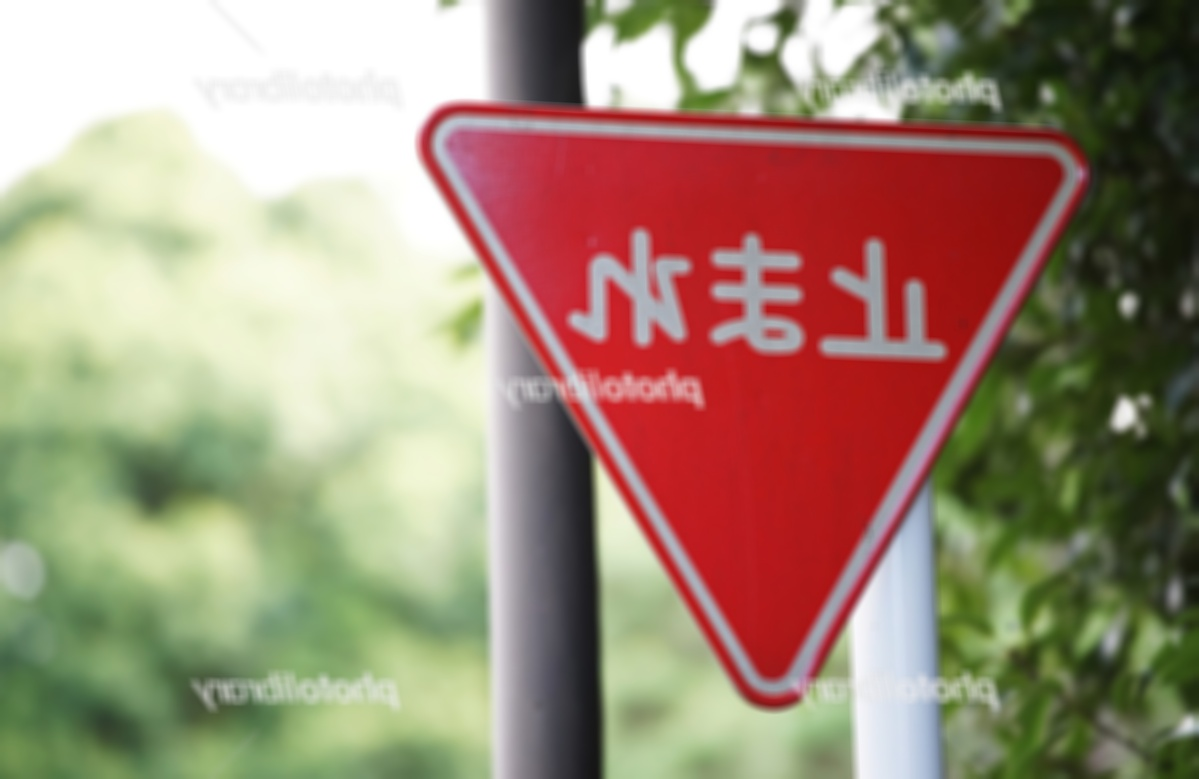Regulatory_sign_triangle: (407, 81, 1133, 710)
